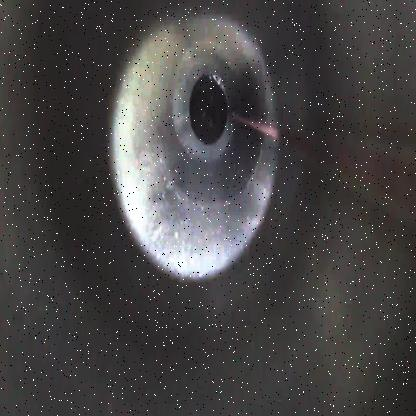NoCrack: (109, 16, 279, 284)
